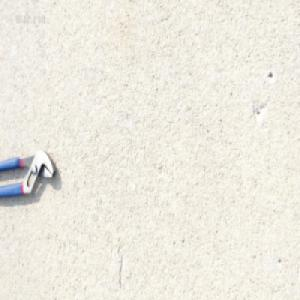Pliers: (0, 148, 57, 200)
